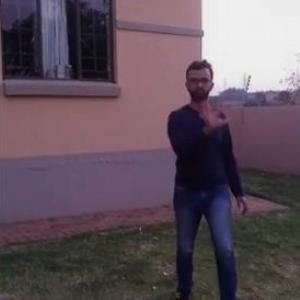follow_hand: (199, 92, 233, 134)
